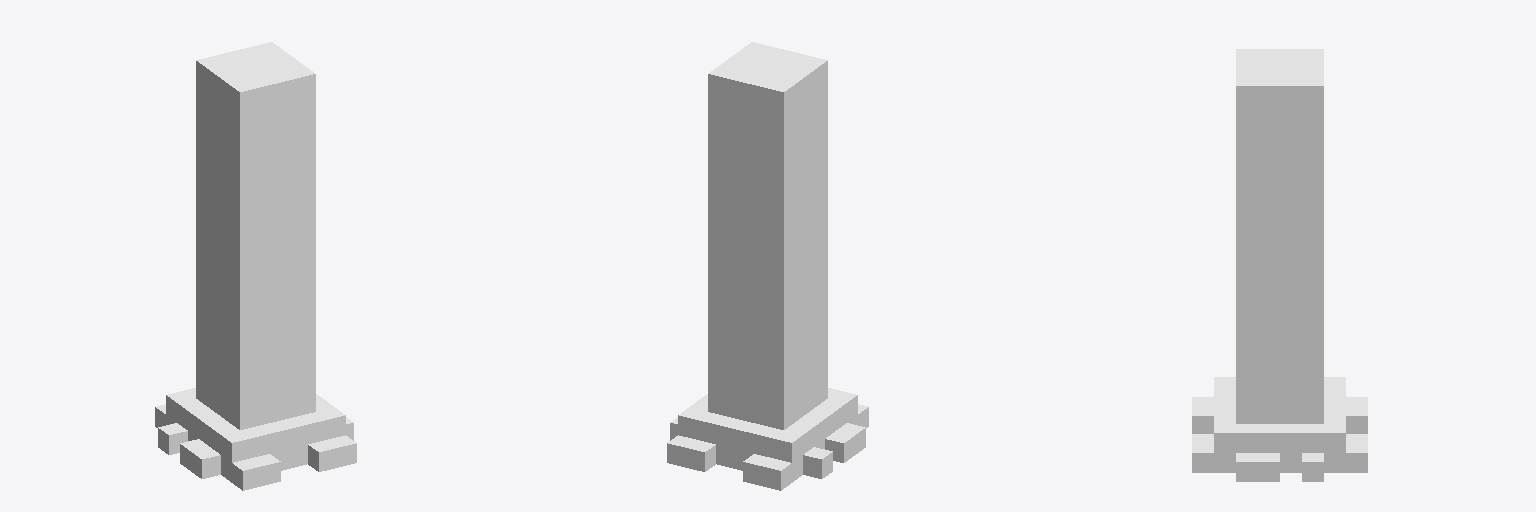
The model's file is Trees-1.obj.
3 renders of one model, left to right at view 1: azimuth 30°, elevation 25°; view 2: azimuth 150°, elevation 25°; view 3: azimuth 270°, elevation 25°, orthographic.
Visible parts, largest first — view 1: object 1; view 2: object 1; view 3: object 1.
Boxes of the visible parts, <box> form: object 1: <box>155,42,356,490</box>; object 1: <box>667,42,868,490</box>; object 1: <box>1192,49,1367,481</box>.
Bounding box in the file's own units: 0.8 × 1.9 × 0.8.